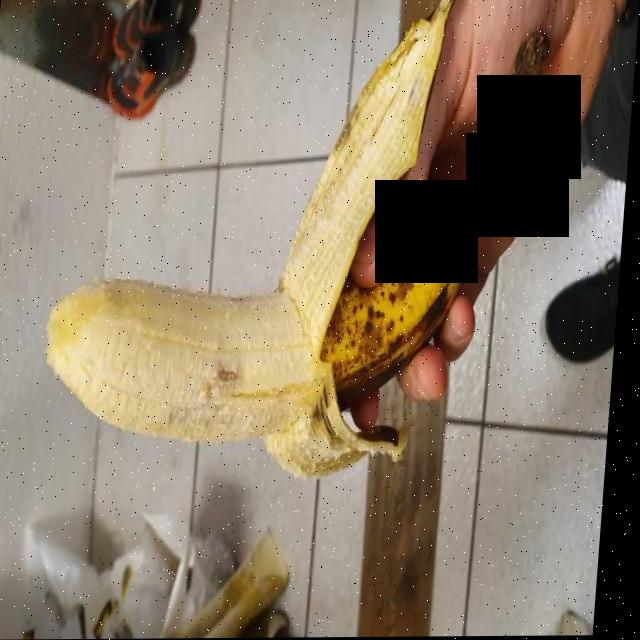banana: (57, 23, 465, 466)
